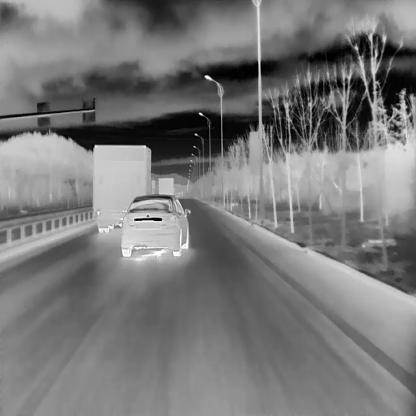car: (121, 192, 190, 256)
truck: (92, 144, 155, 232), (158, 177, 173, 203)
